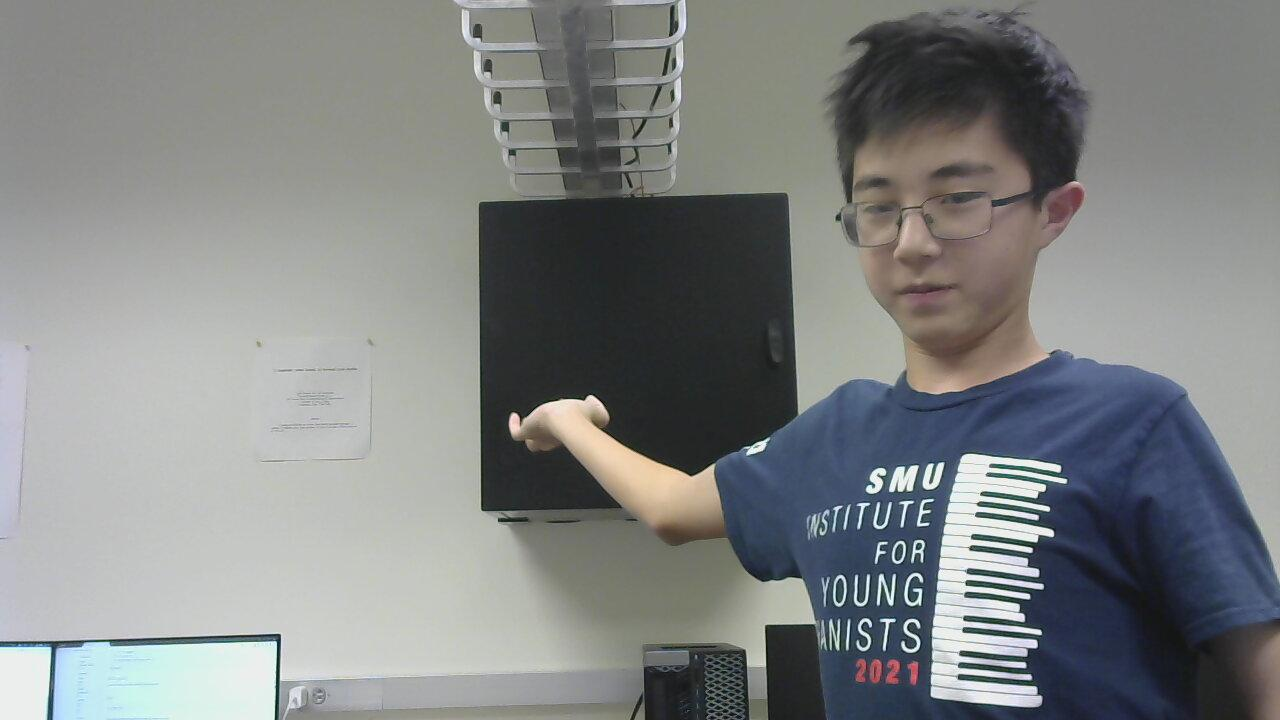hands: (486, 372, 615, 466)
